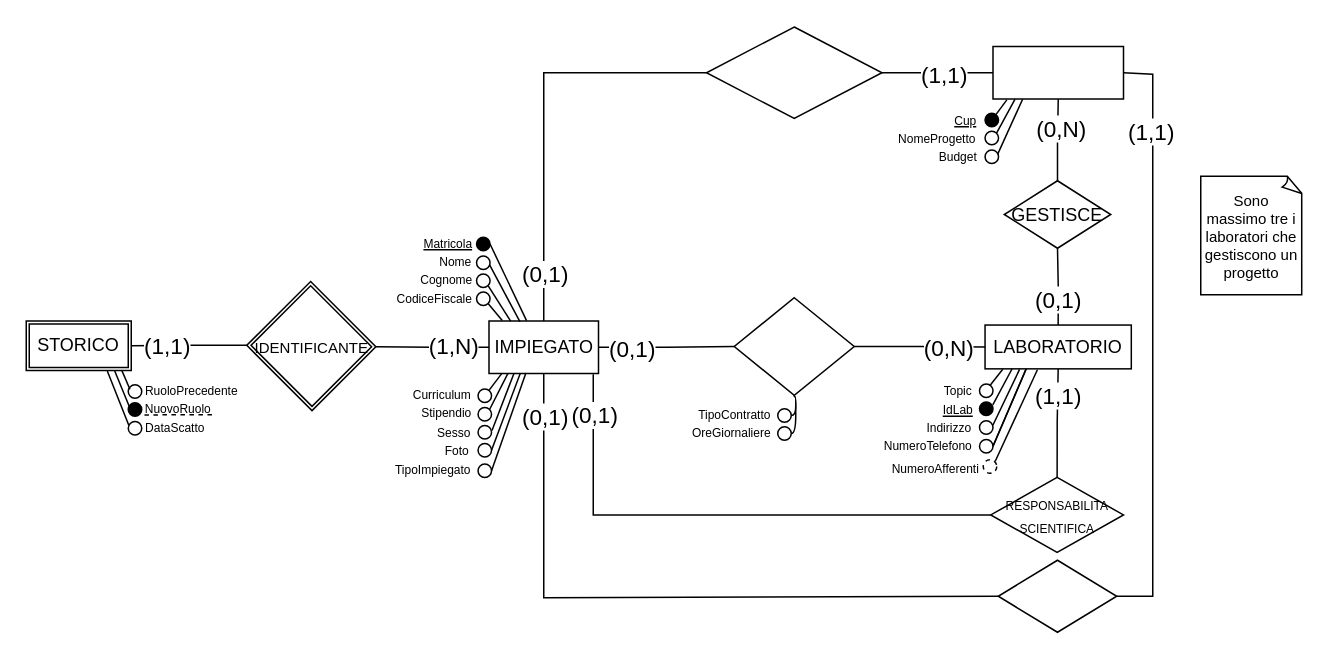
This 1329x659 diagram has some shape labels left out. The shapes that lost their labels are listed below. From the top down, each one's centre as x and y in pixels, then its label:
At (x=793, y=72): "RESPONSABILITA".
At (x=1058, y=72): "PROGETTO".
At (x=793, y=345): "AFFERENZA".
At (x=1057, y=595): "REFERNTE".
